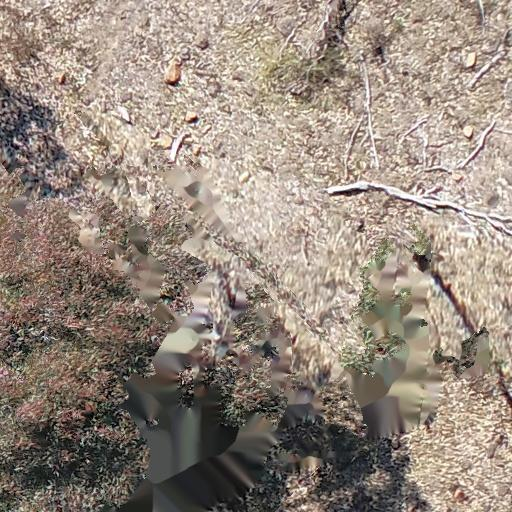stone: (161, 62, 185, 85), (155, 132, 174, 150), (205, 80, 223, 98), (464, 51, 478, 69), (194, 36, 211, 49), (487, 194, 501, 208), (184, 111, 199, 124), (238, 170, 250, 184), (463, 125, 474, 139), (57, 73, 67, 85), (192, 145, 202, 157), (452, 173, 464, 183)
